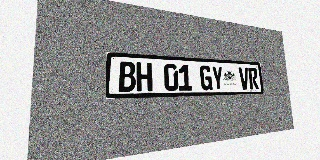0: (163, 63, 178, 91)
1: (178, 64, 192, 91)
B: (119, 61, 136, 92)
G: (199, 65, 212, 90)
H: (136, 62, 152, 92)
R: (248, 68, 259, 89)
V: (238, 67, 250, 90)
Y: (211, 66, 224, 90)
